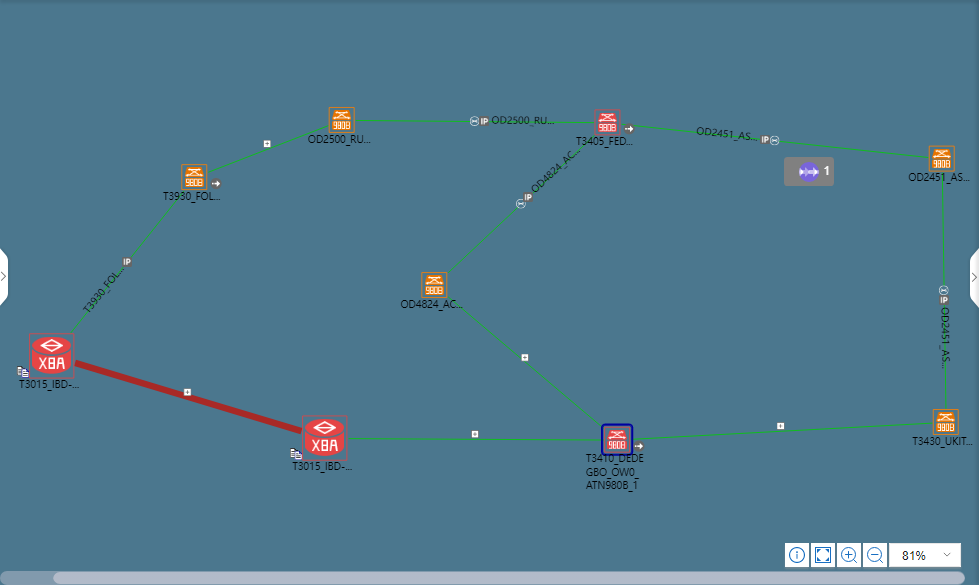ATN_Orange: (181, 167, 210, 190), (927, 149, 956, 172), (333, 106, 356, 135), (933, 412, 962, 433), (425, 277, 448, 300)
ATN_Red: (609, 430, 632, 453), (597, 112, 620, 135)
Link_Green: (450, 296, 600, 426), (450, 136, 589, 270), (70, 192, 182, 329), (649, 124, 932, 156), (211, 124, 321, 170), (633, 424, 855, 438), (939, 173, 950, 410), (939, 173, 950, 407)
Link_Red: (76, 357, 301, 432)
Router_Red: (28, 332, 75, 380), (303, 418, 350, 458)
